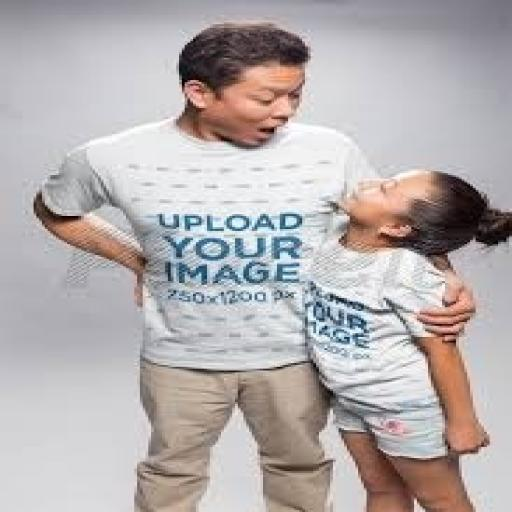hugging: (28, 19, 504, 510), (297, 166, 509, 510)
